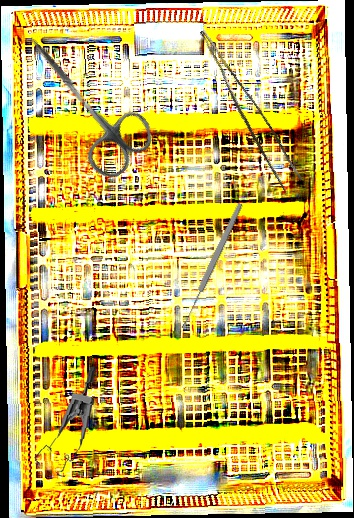Iris Scissors: (1, 15, 163, 186)
Speculum: (32, 362, 98, 480)
Surgical Spoon: (178, 202, 245, 330)
Tissue Forceps: (182, 29, 307, 192)
